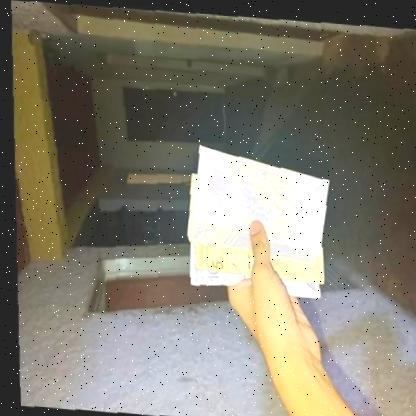five-front-vef: (187, 238, 324, 280)
ten-back-vef: (181, 170, 330, 262), (184, 241, 319, 296)
two_hundred-back-vef: (188, 143, 331, 250)
